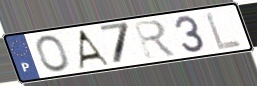3: (173, 13, 206, 55)
7: (98, 21, 133, 67)
A: (76, 28, 111, 70)
L: (203, 10, 244, 52)
O: (35, 34, 72, 73)
R: (131, 18, 180, 60)
